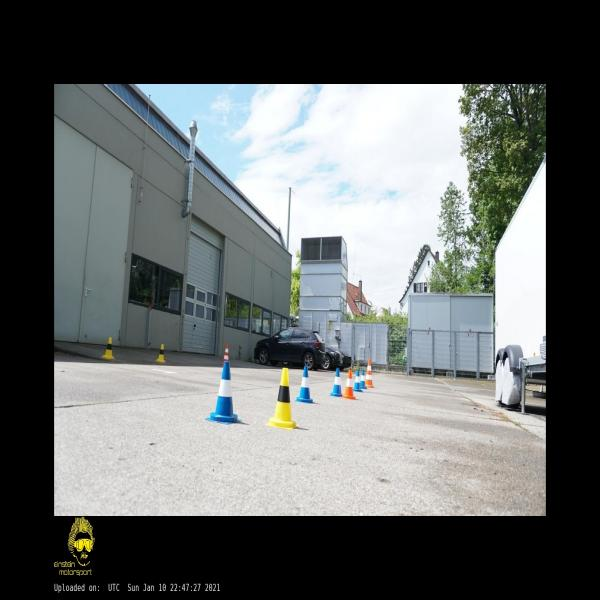blue_cone: (204, 362, 241, 424), (294, 366, 314, 404), (330, 368, 342, 397), (353, 370, 362, 392), (360, 370, 367, 389)
large_orange_cone: (366, 358, 374, 388), (221, 343, 229, 365)
orange_cone: (342, 370, 355, 400)
yellow_cone: (265, 368, 298, 430), (100, 336, 115, 360), (155, 344, 165, 362)
